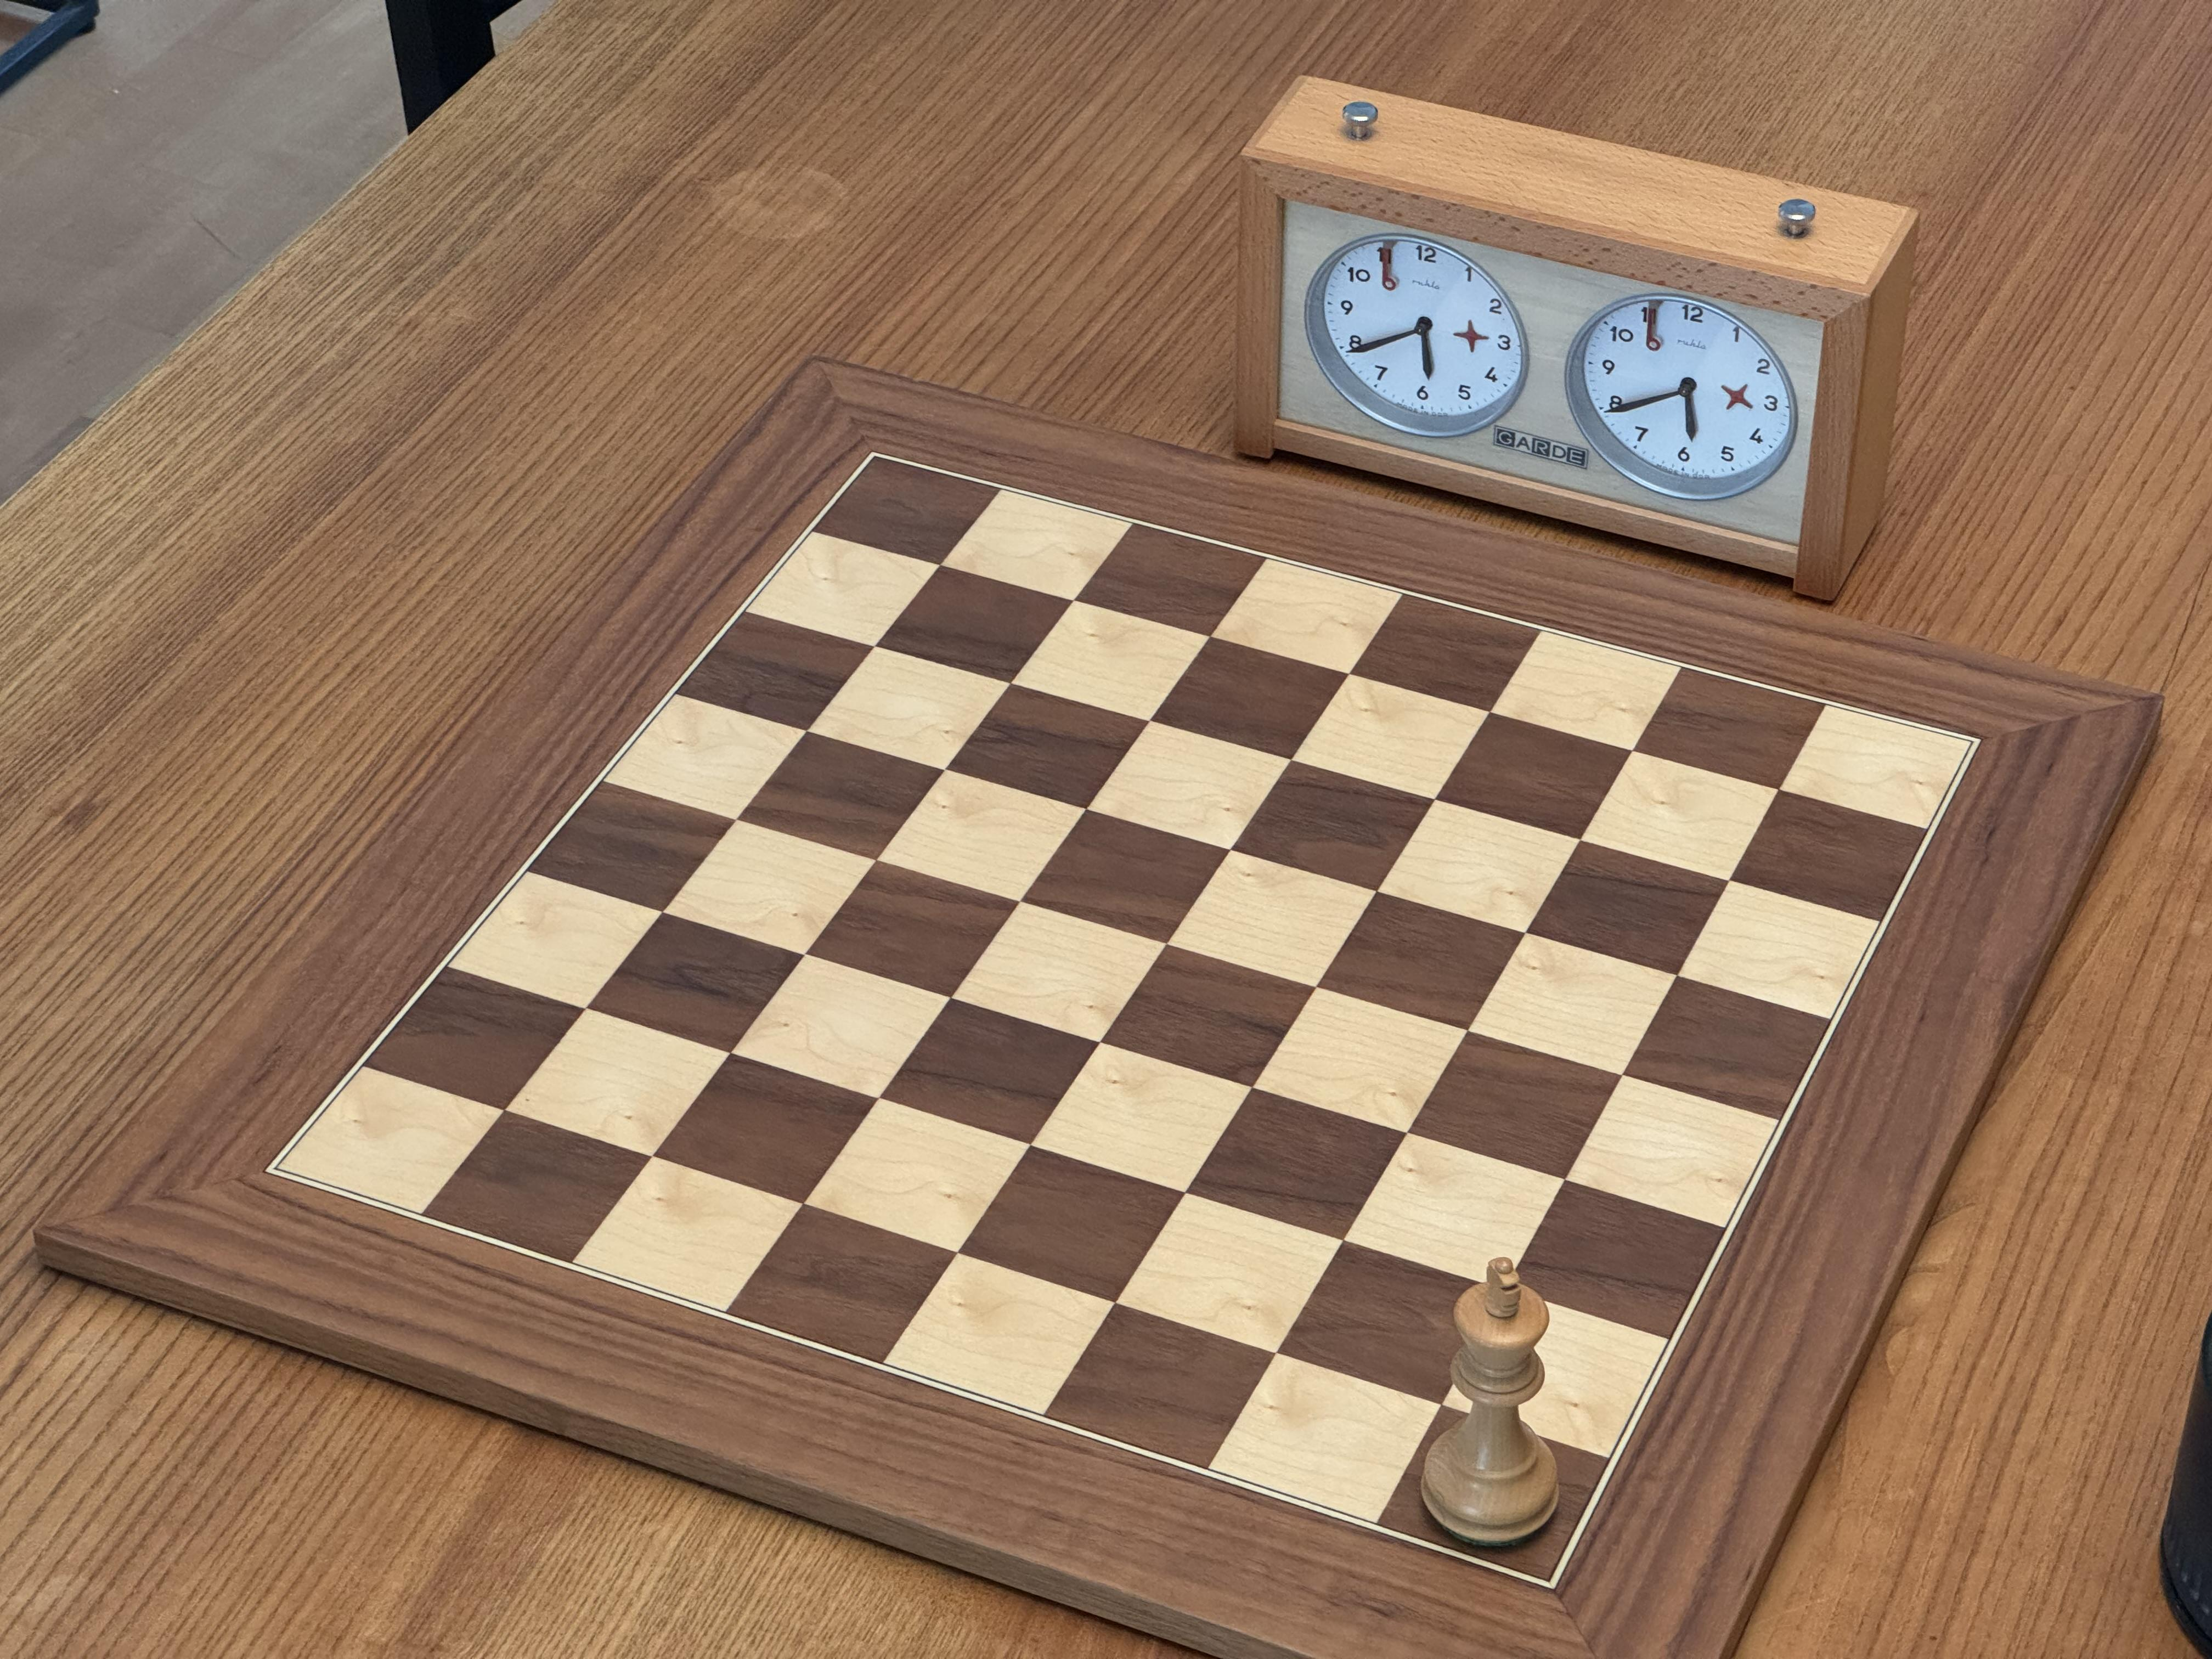White King: (1414, 1251, 1565, 1557)
